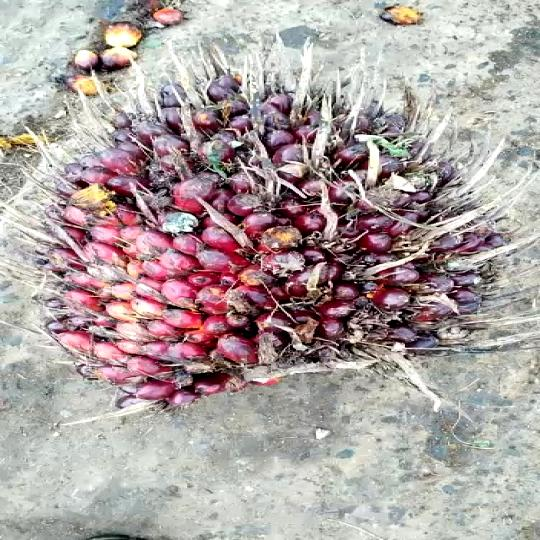masak: (40, 74, 506, 408)
